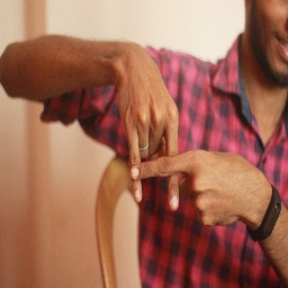H: (117, 106, 195, 206)
